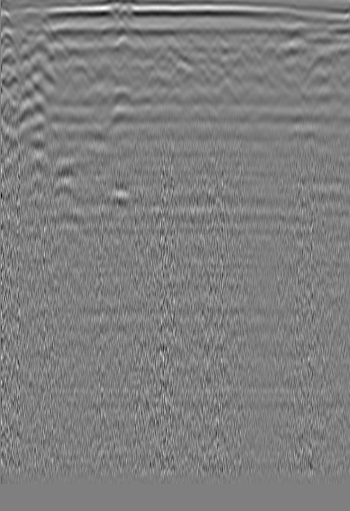가스: (102, 183, 136, 209)
상수: (21, 35, 56, 62)
오수: (301, 53, 342, 82)
우수: (153, 35, 189, 67)
